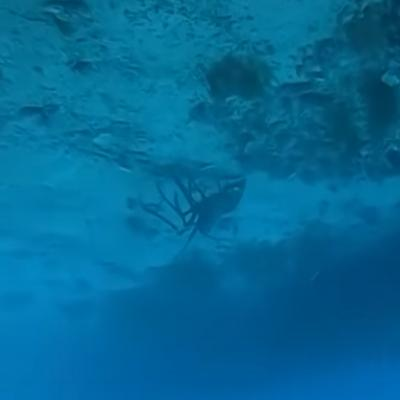lobster: (172, 176, 243, 233)
